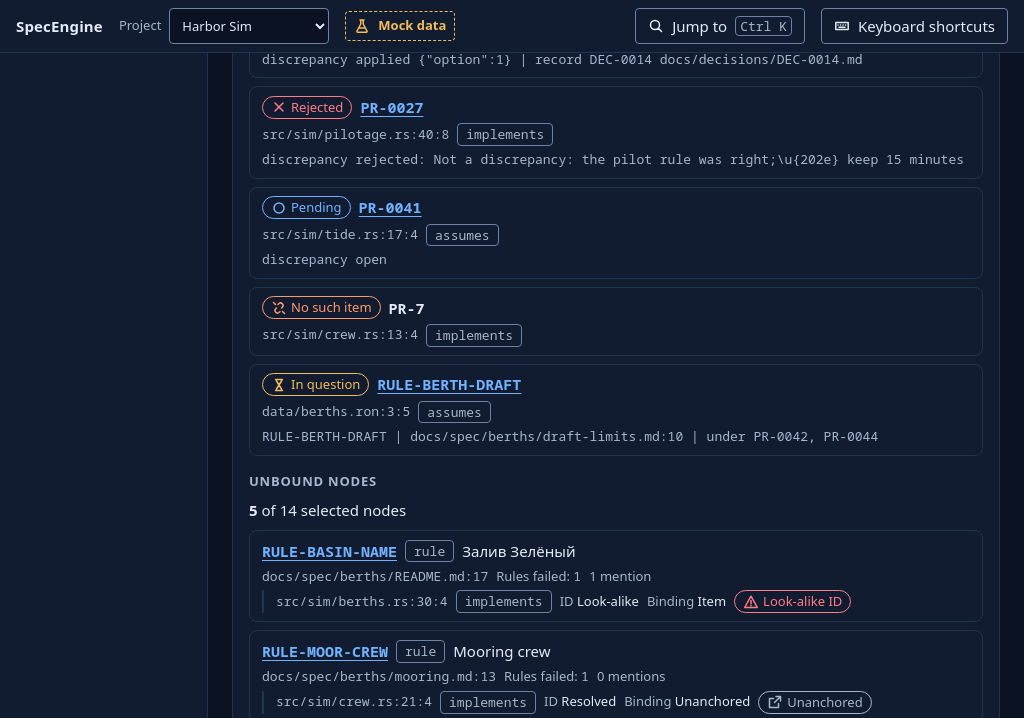
Test: Health over the mock › normal: assumes's RULE-BERTH-DRAFT opens its node in the tree (UI-6)
(page scrolled)
Click the link "RULE-BERTH-DRAFT": coordinates (449, 385) [377, 373, 521, 397]
(page scrolled)
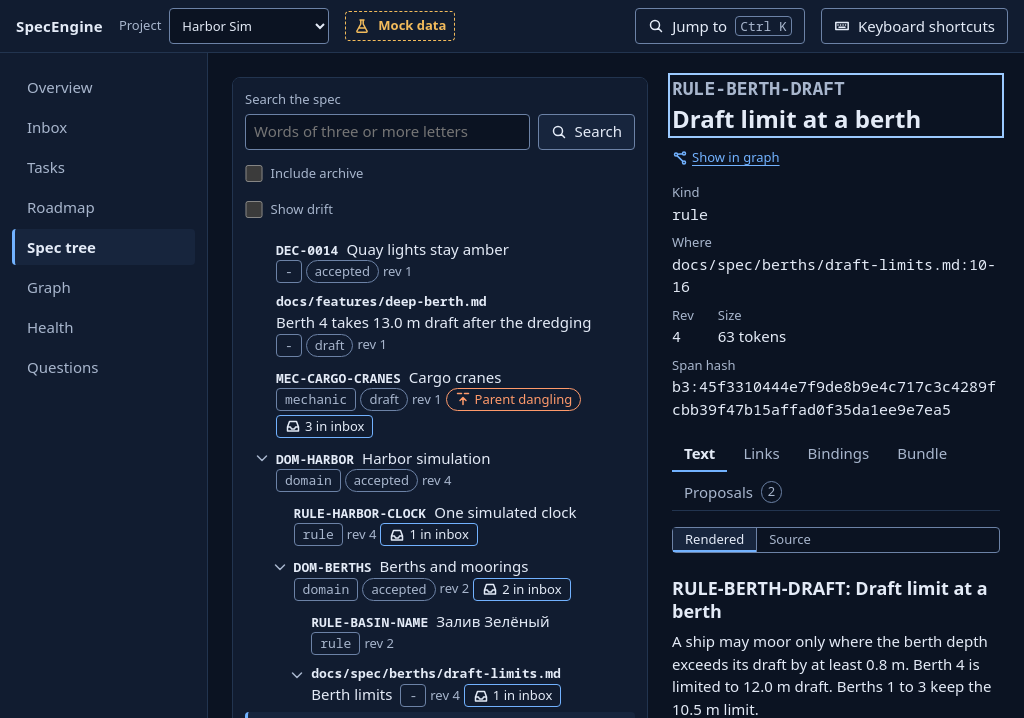
Expected: the heading "RULE-BERTH-DRAFT Draft limit at a berth" is shown, [672, 76, 921, 134]
